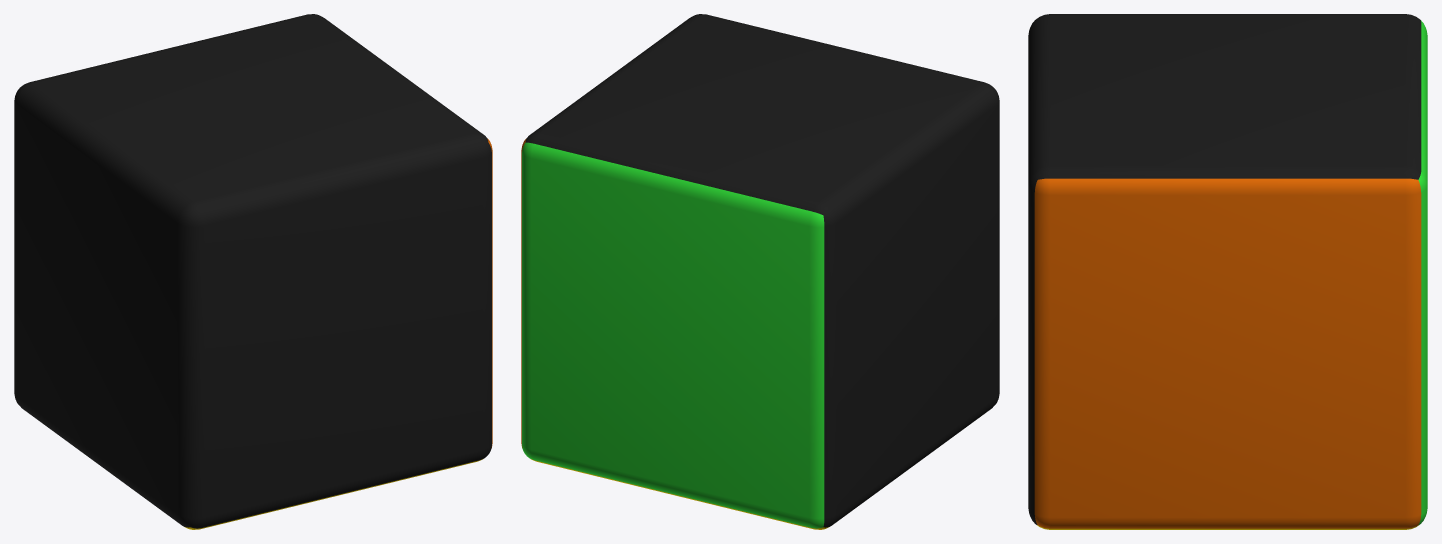
File: yog_corner.glb
3 renders of one model, left to right at view 1: azimuth 30°, elevation 25°; view 2: azimuth 150°, elevation 25°; view 3: azimuth 270°, elevation 25°, orthographic. The views are drawn at different scales.
Parts seen in each view (by area): view 1: Cube.021; view 2: Cube.021; view 3: Cube.021.
Boxes of the visible parts, x1,y1,x2,y2 form: Cube.021: (14,14,492,529); Cube.021: (521,14,999,529); Cube.021: (1028,14,1427,529).
Bounding box in the file's own units: 2 × 2 × 2.
